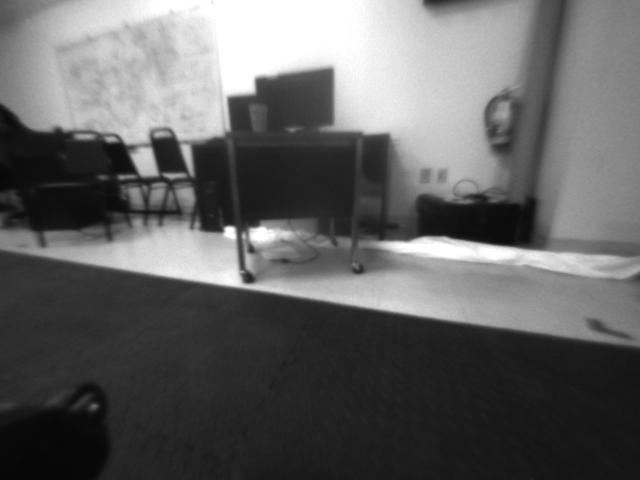coffee_cup: (246, 101, 271, 132)
